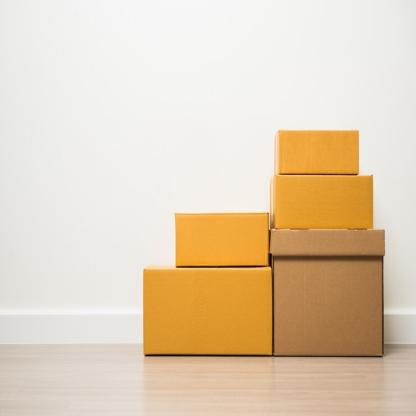box: (270, 229, 385, 359), (142, 268, 272, 356), (274, 172, 373, 231), (176, 211, 269, 266), (277, 129, 358, 174)
